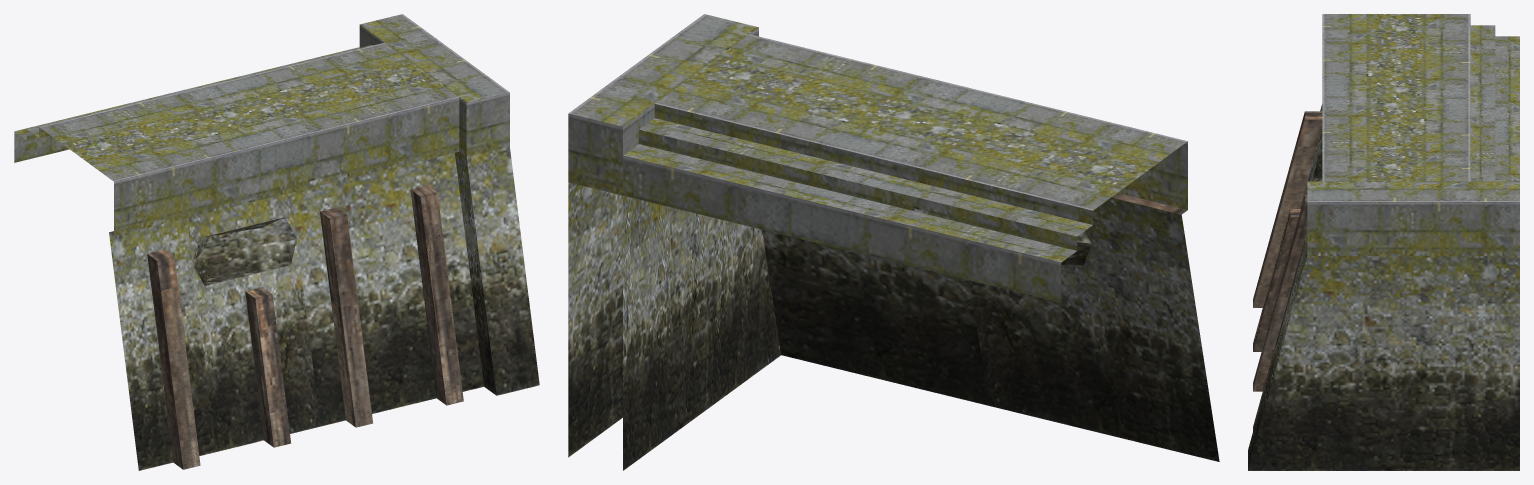
The model's file is CanalWall01b.obj.
3 views of the same model, side by side, from view 1: azimuth 30°, elevation 25°; view 2: azimuth 150°, elevation 25°; view 3: azimuth 270°, elevation 25° (orthographic). The views are drawn at different scales.
Parts seen in each view (by area): view 1: CanalWall02, CanalWallCap, CanalWallPosts01, CanalWallPosts02, CanalWallPosts03; view 2: CanalWall02, CanalWallCap; view 3: CanalWallCap, CanalWall02, CanalWallPosts01, CanalWallPosts02, CanalWallPosts03.
Boxes of the visible parts, <box> form: CanalWall02: <box>14,43,483,470</box>; CanalWallCap: <box>359,14,539,395</box>; CanalWallPosts01: <box>151,185,463,469</box>; CanalWallPosts02: <box>155,207,463,469</box>; CanalWallPosts03: <box>147,223,462,469</box>; CanalWall02: <box>623,34,1219,461</box>; CanalWallCap: <box>568,14,781,470</box>; CanalWallCap: <box>1248,181,1519,470</box>; CanalWall02: <box>1300,14,1519,208</box>; CanalWallPosts01: <box>1253,142,1316,430</box>; CanalWallPosts02: <box>1253,170,1307,405</box>; CanalWallPosts03: <box>1253,111,1322,307</box>.
Size of the model in its own units: 9 by 6 by 5.5.
